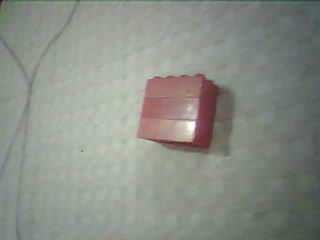lego: (134, 71, 219, 149)
